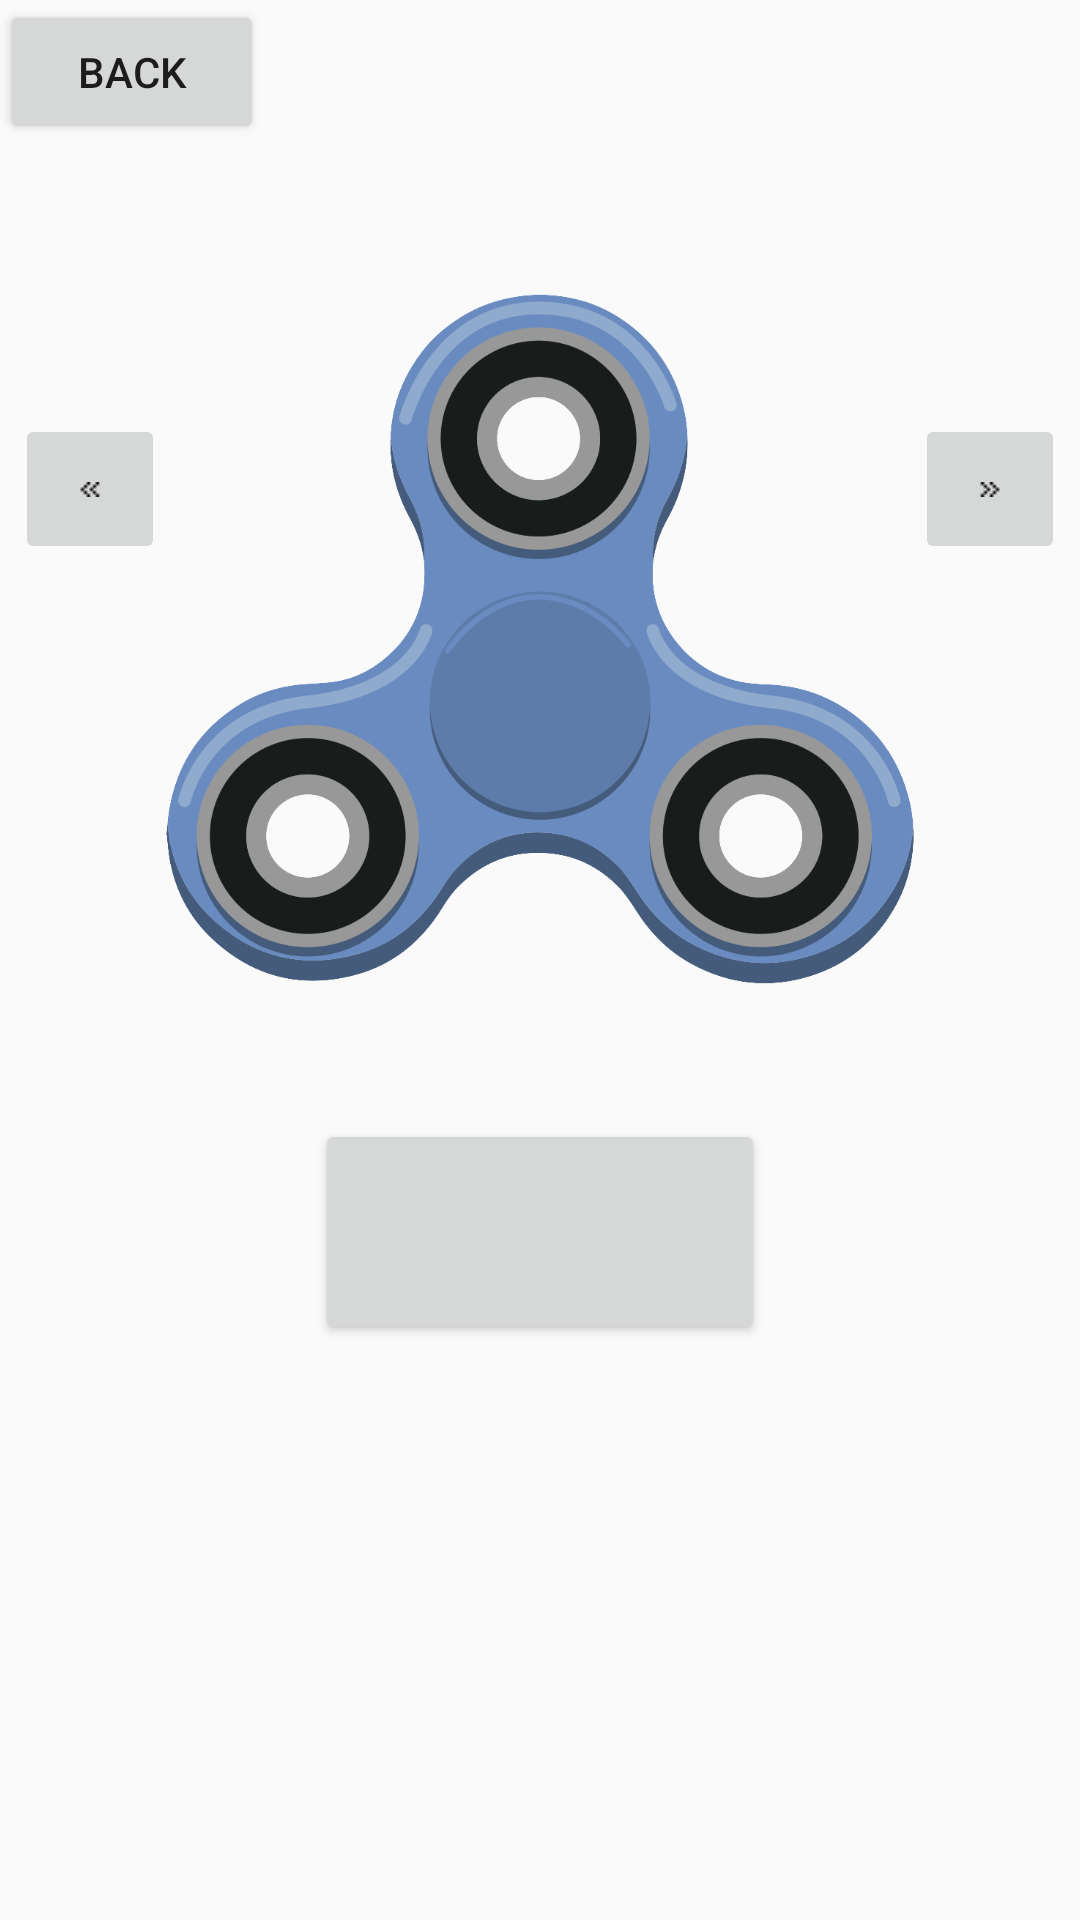

Icon click points for this 1080w x 1920h phone screenshot, format (x=x, y=y):
arrow left: (x=90, y=489)
right arrow: (x=990, y=489)
